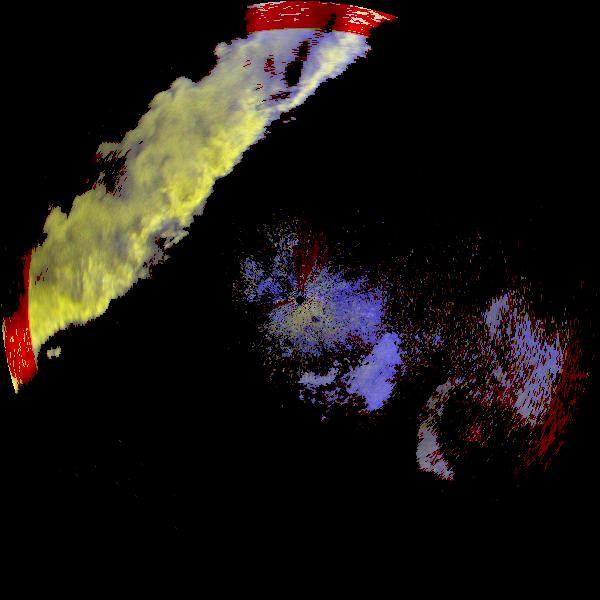roost: (388, 357, 541, 510)
